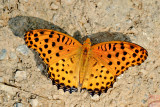Argyreus hyperbius: (18, 25, 147, 95)
butterfly: (20, 26, 149, 96)
